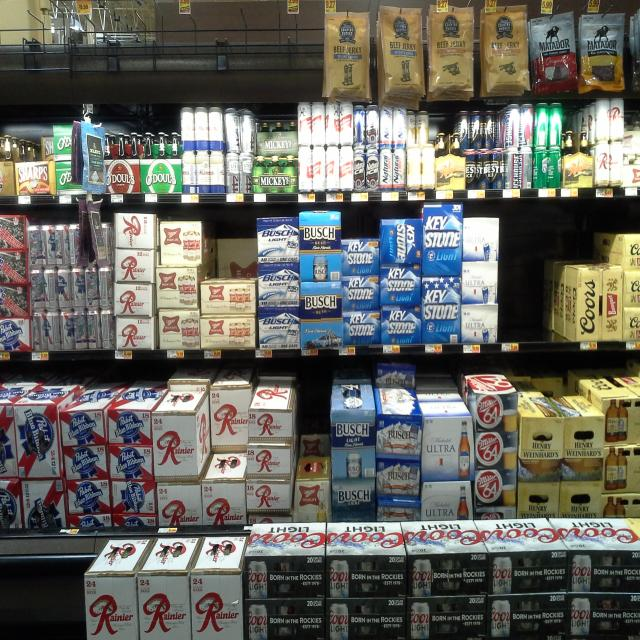empty: (499, 213, 565, 346), (1, 539, 92, 625)
